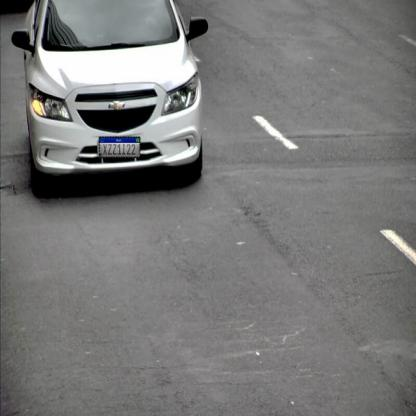PlacaM: (99, 137, 140, 158)
